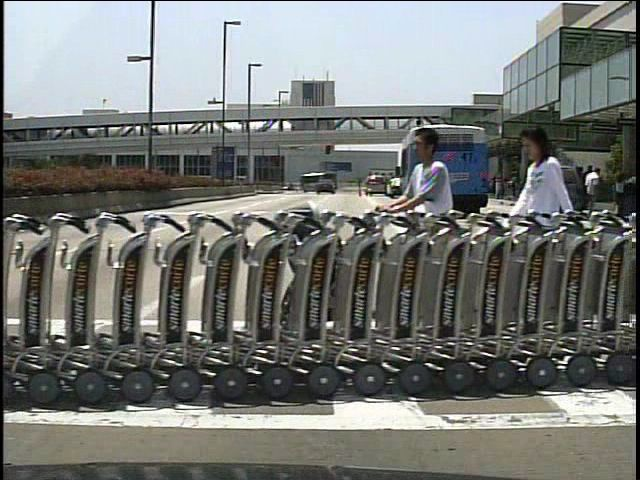person: (373, 121, 471, 365), (511, 115, 574, 328), (581, 163, 598, 214), (584, 165, 599, 215), (358, 176, 366, 196)
